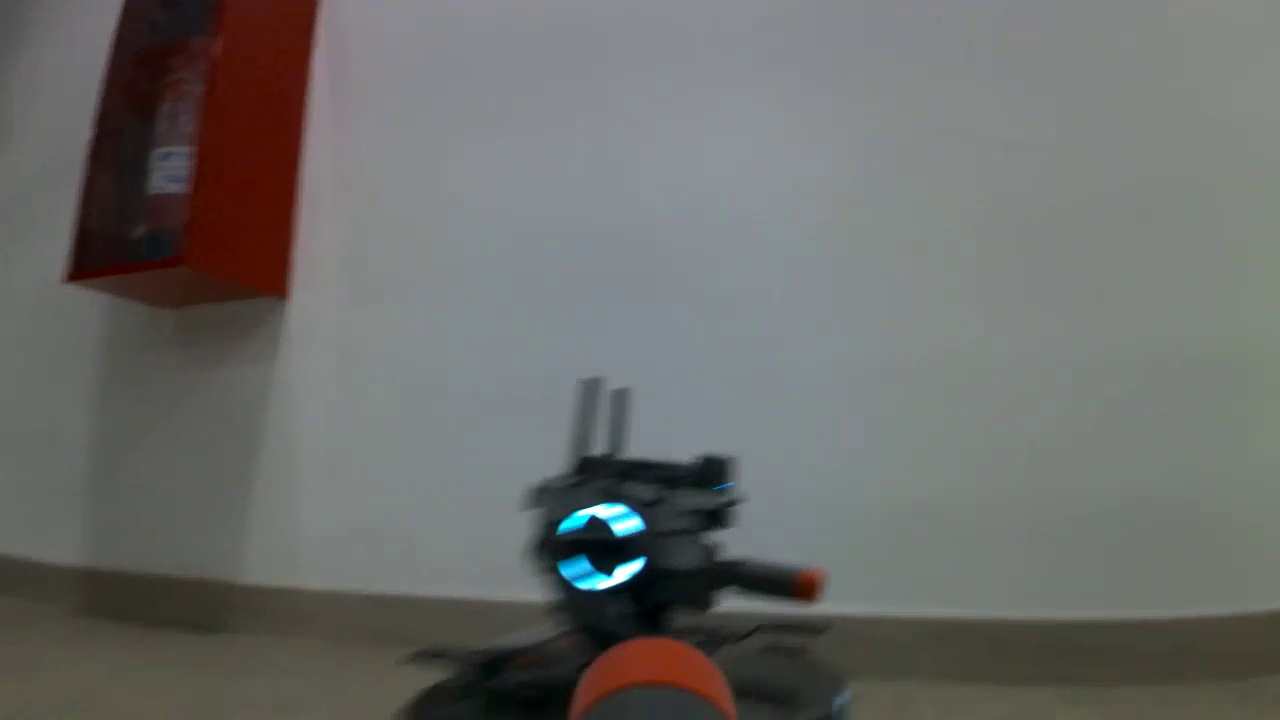robot: (385, 444, 858, 720)
